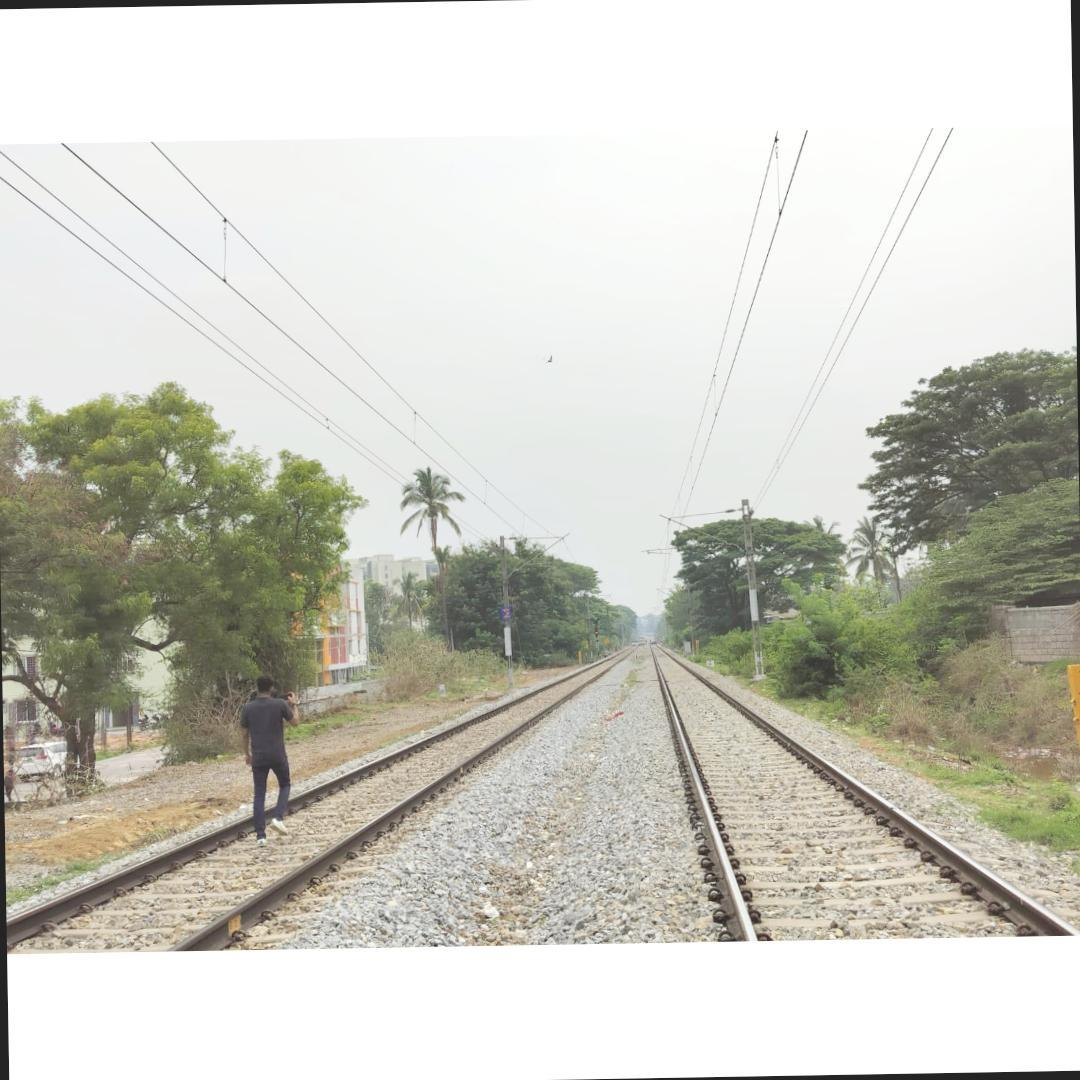standing: (236, 674, 302, 858)
track: (6, 642, 652, 951), (647, 640, 1080, 942)
